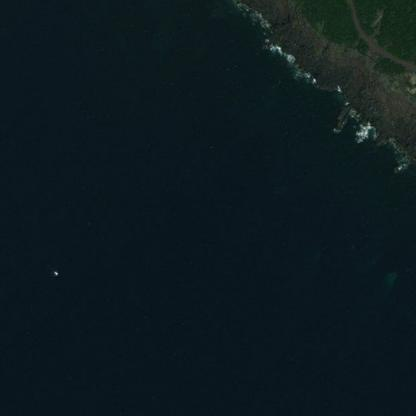ship: (53, 270, 56, 274)
